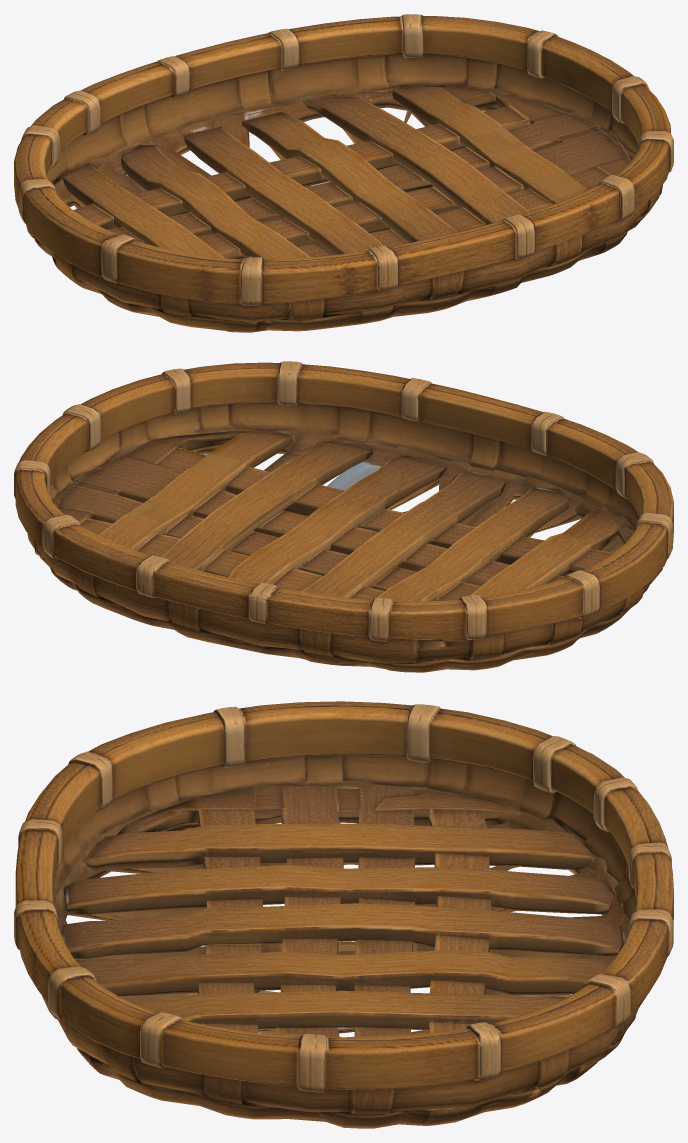
The model's file is tripo_convert_5331110b-24d7-462b-b3b4-8eb30920de7b.fbx.
3 renders of one model, top to bottom at view 1: azimuth 30°, elevation 25°; view 2: azimuth 150°, elevation 25°; view 3: azimuth 270°, elevation 25°, orthographic. The views are drawn at different scales.
Visible parts, largest first — view 1: tripo_node_5331110b; view 2: tripo_node_5331110b; view 3: tripo_node_5331110b.
Part boxes in pixels (x1,y1,x2,y2): tripo_node_5331110b: (14,14,673,332); tripo_node_5331110b: (14,361,673,672); tripo_node_5331110b: (14,701,673,1128).
Bounding box in the file's own units: 0.9995 × 0.1377 × 0.7886.
1 material, 1 textured.
